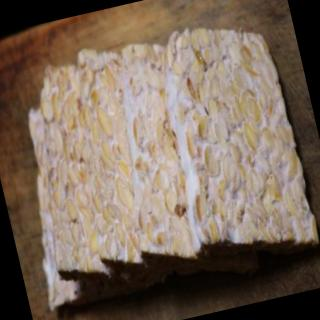Tempe: (1, 6, 320, 316)
